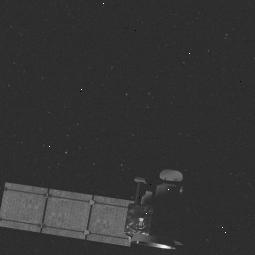earth_observation_sat_1: (0, 163, 202, 255)
